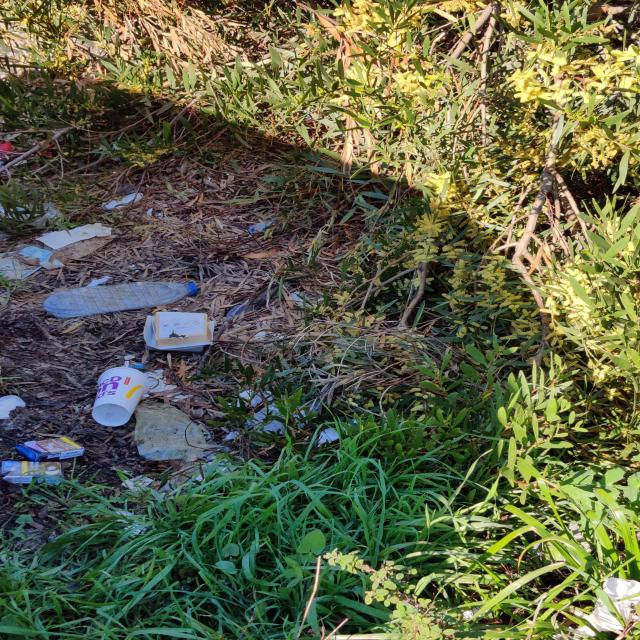litter: (0, 201, 113, 281), (43, 281, 201, 318), (130, 397, 212, 461), (1, 435, 84, 481), (91, 366, 149, 428), (138, 310, 217, 352)
